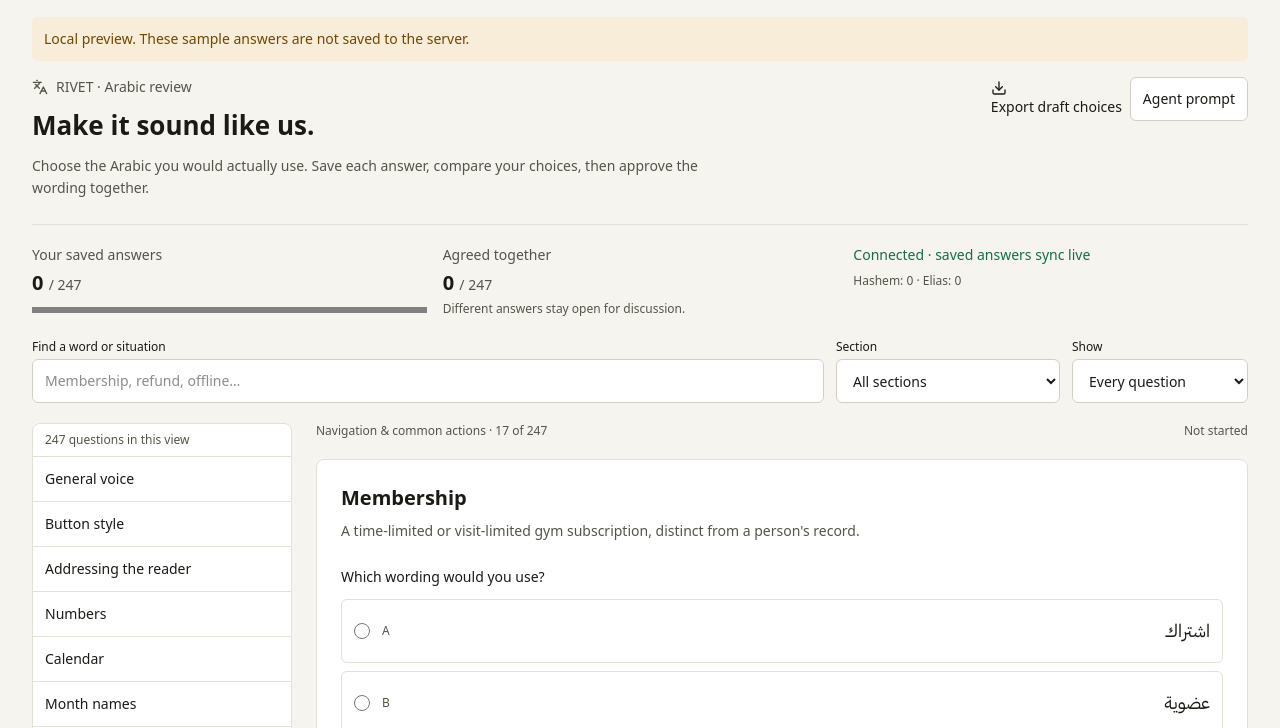
Test: Arabic review interaction › offers multiple choice and explicitly saves the selected answer and comment
Click the radio button labelled "A اشتراك".
click(362, 631)  # box [354, 623, 370, 639]
(page scrolled)
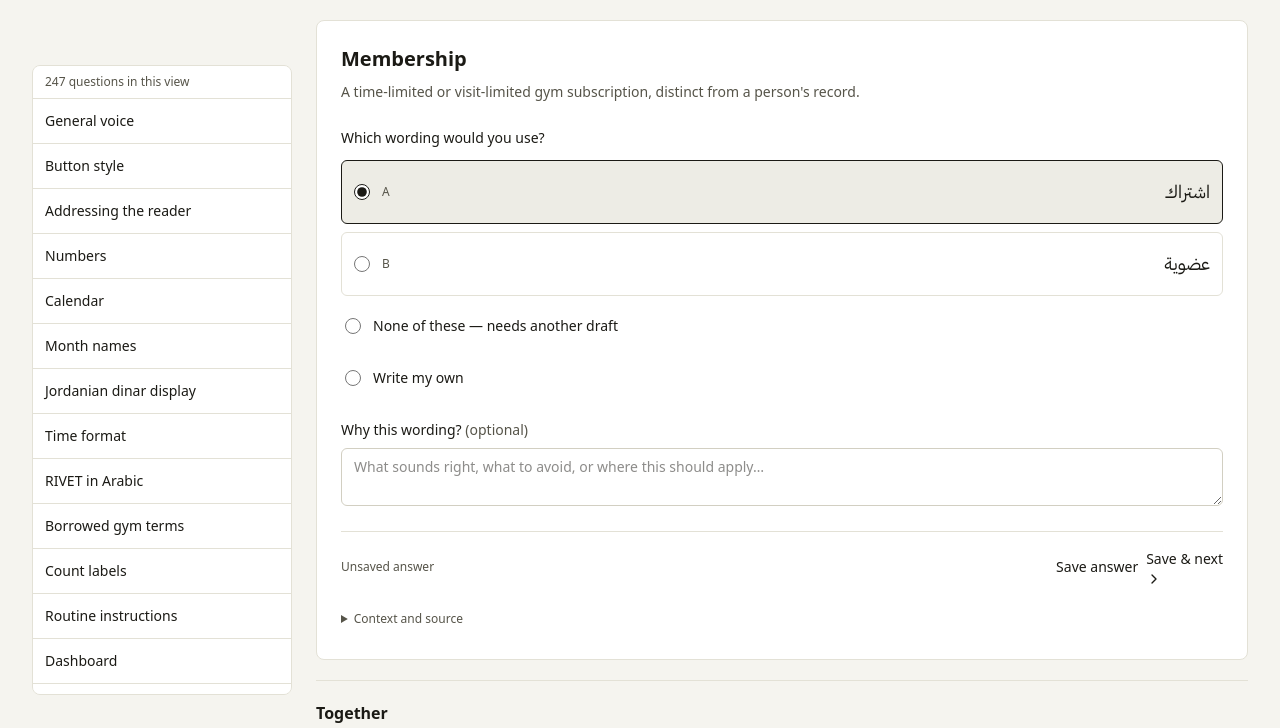
Replace the text in the text box labelled "Why this wording? (optional)" with "Our gym says this" at (782, 477), box [341, 448, 1223, 506]
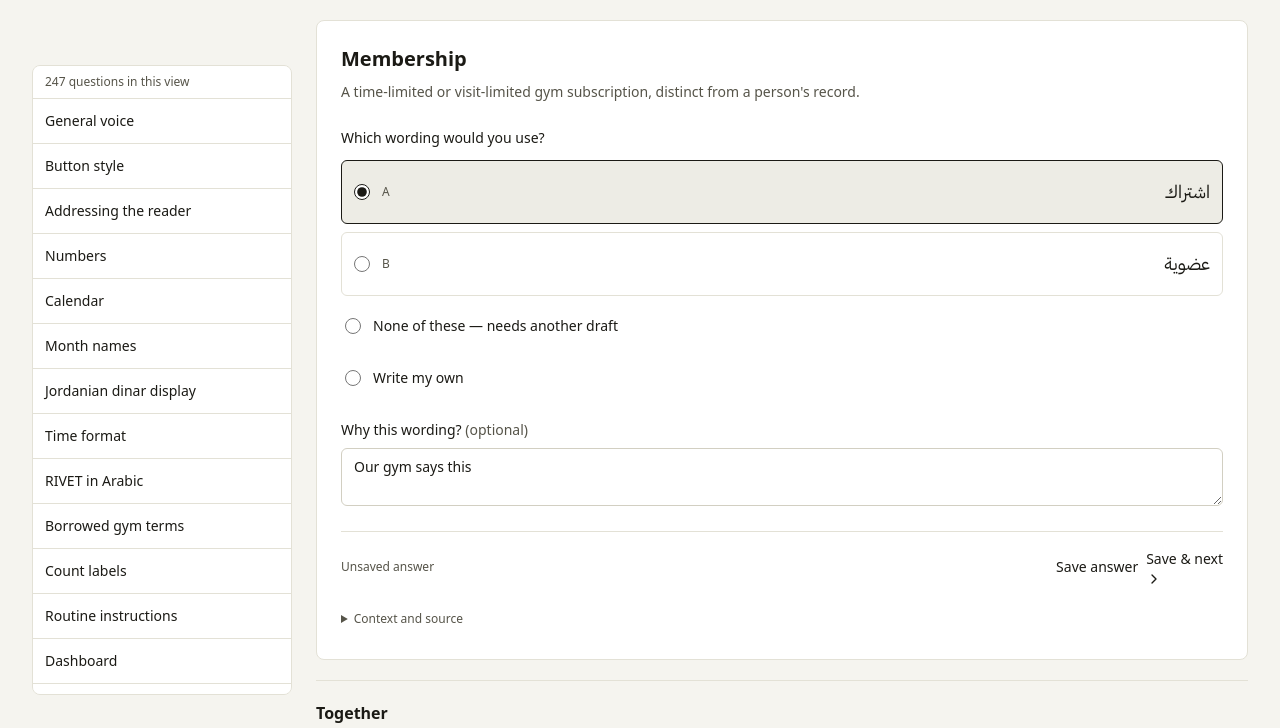
Check: the text "Unsaved answer" is shown, box [341, 559, 434, 575]
Click the button "Save answer".
click(1097, 567)  # box [1056, 548, 1138, 587]
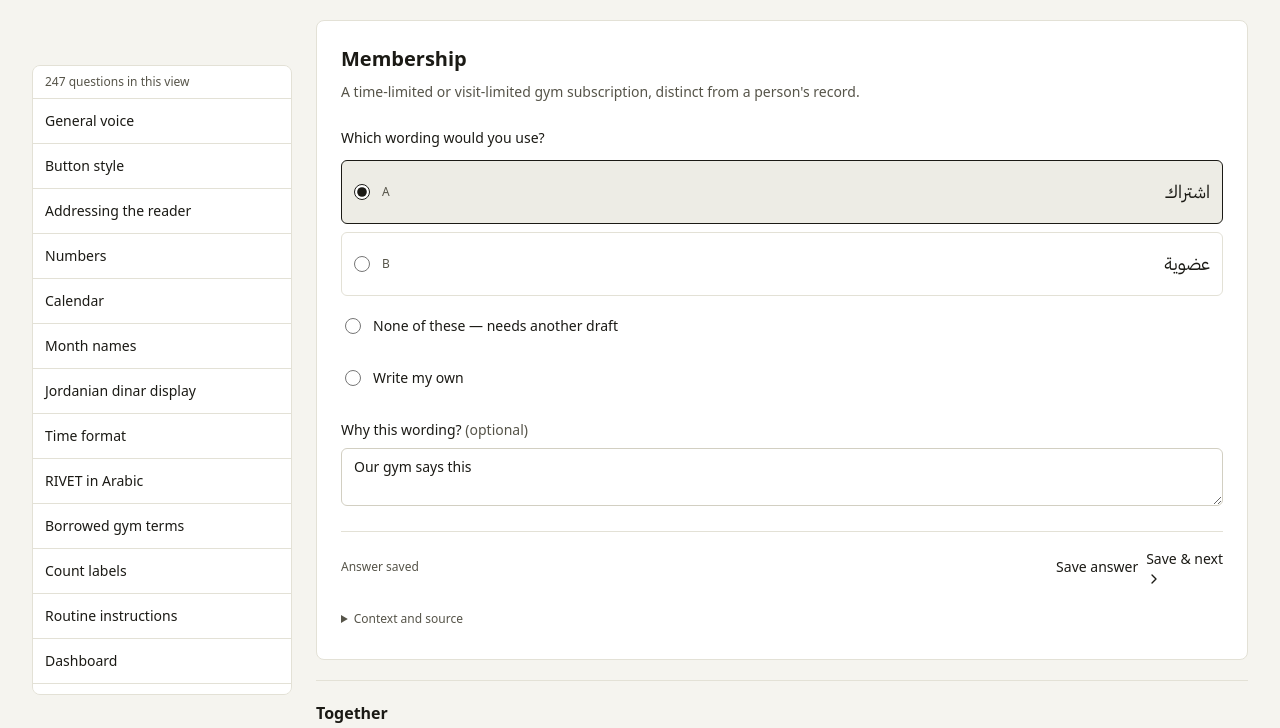
Check: the text "Answer saved" is shown, box [341, 559, 419, 575]
